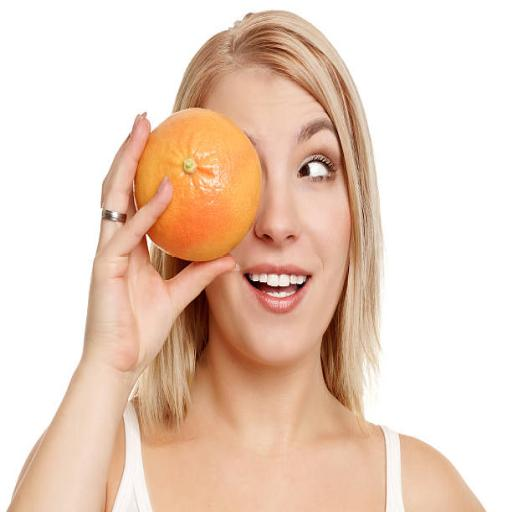orange: (134, 108, 261, 261)
